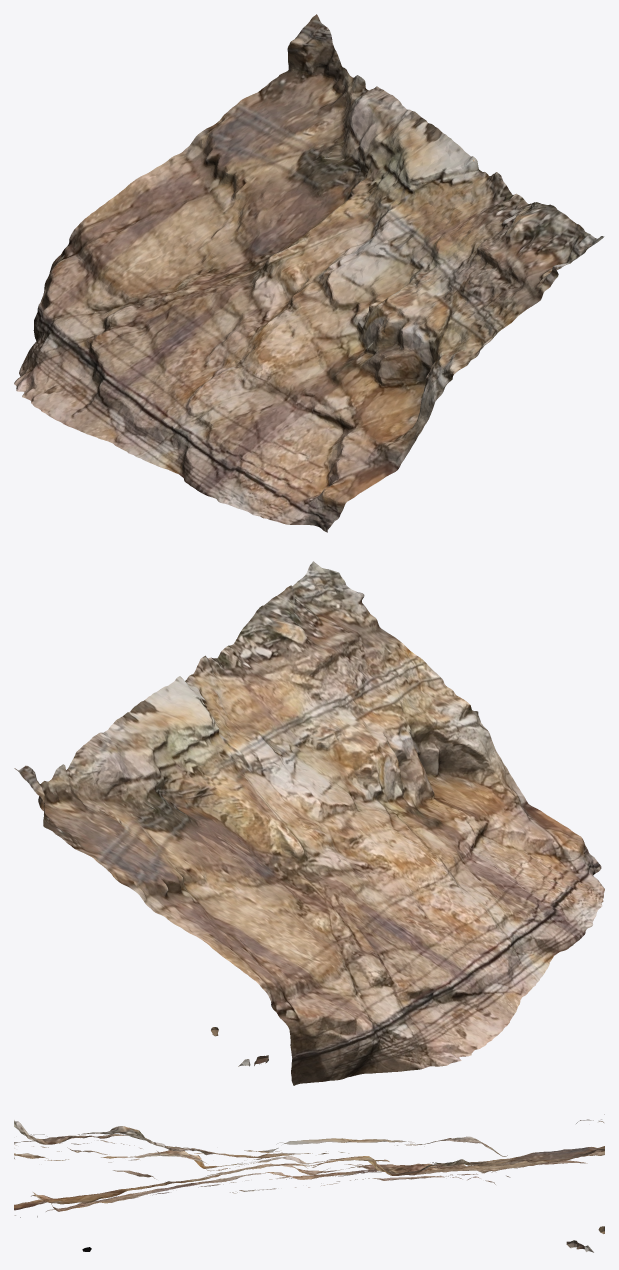
The picture shows the model from 3 angles, top to bottom: view 1: azimuth 30°, elevation 25°; view 2: azimuth 150°, elevation 25°; view 3: azimuth 270°, elevation 25°; orthographic projection. The views are drawn at different scales.
Size of the model in its own units: 3.73 by 2.32 by 5.05.
Materials: 2 (2 with a texture image).
